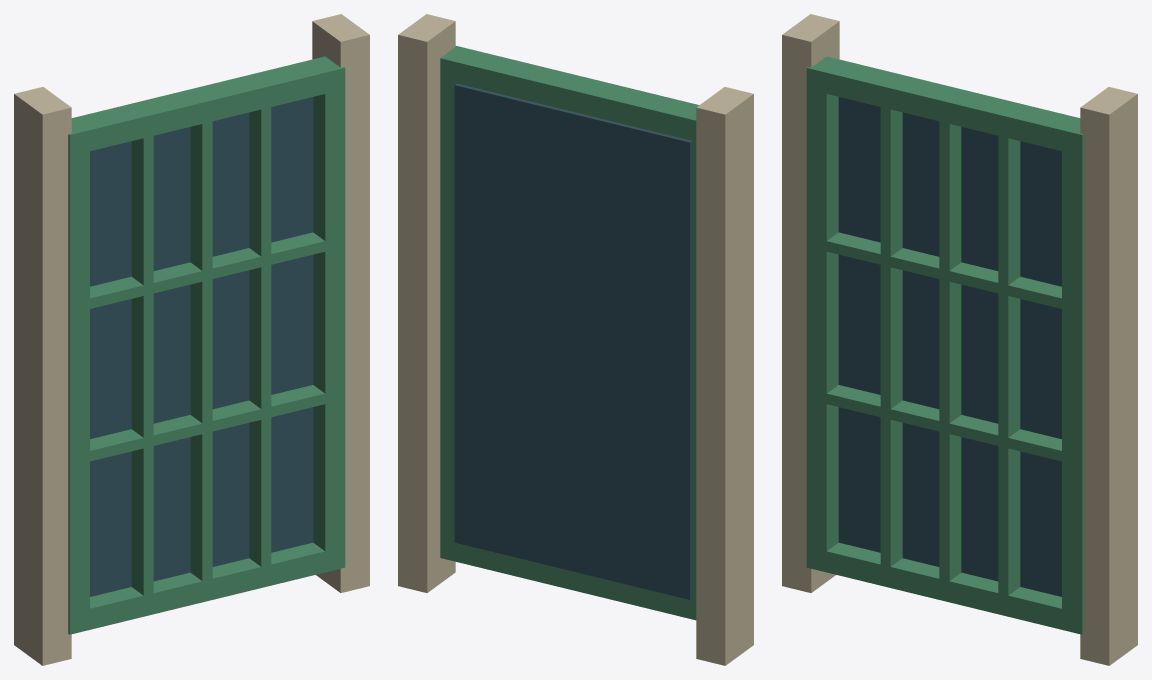
The model's file is window_39.glb.
3 renders of one model, left to right at view 1: azimuth 30°, elevation 25°; view 2: azimuth 150°, elevation 25°; view 3: azimuth 330°, elevation 25°, orthographic.
Visible parts, largest first — view 1: window_39; view 2: window_39; view 3: window_39.
Boxes of the visible parts, x1,y1,x2,y2 form: window_39: [14, 14, 369, 665]; window_39: [398, 14, 753, 665]; window_39: [782, 14, 1137, 665].
Bounding box in the file's own units: 1.46 × 2.35 × 0.23.
